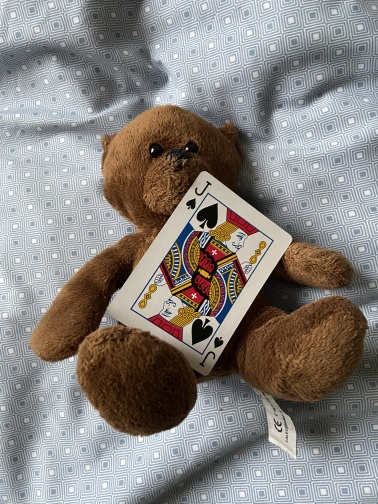jack: (106, 169, 294, 378)
